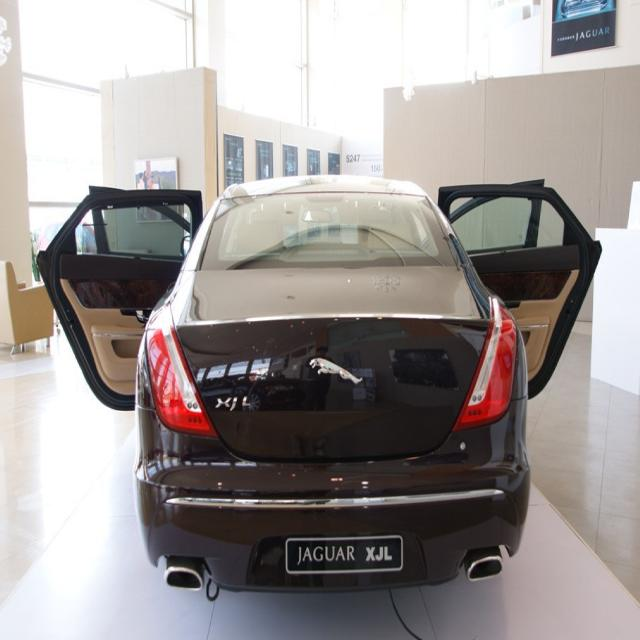back_glass: (197, 191, 456, 270)
back_left_side_light: (147, 300, 217, 438)
back_right_side_light: (457, 298, 515, 430)
front_left_side_door: (87, 184, 204, 410)
front_right_side_door: (444, 174, 546, 348)
rear_bumper: (135, 394, 529, 586)
